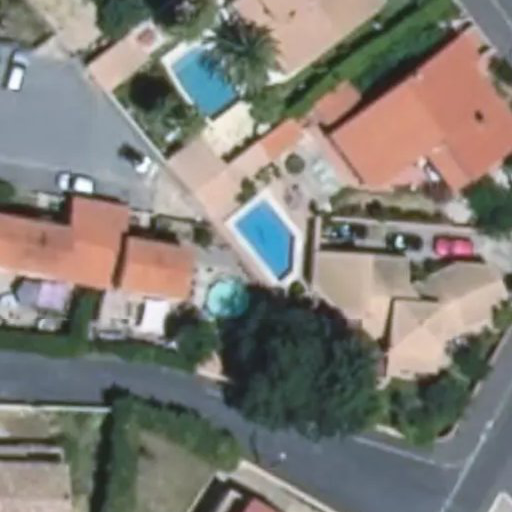pool: (222, 226, 307, 257)
